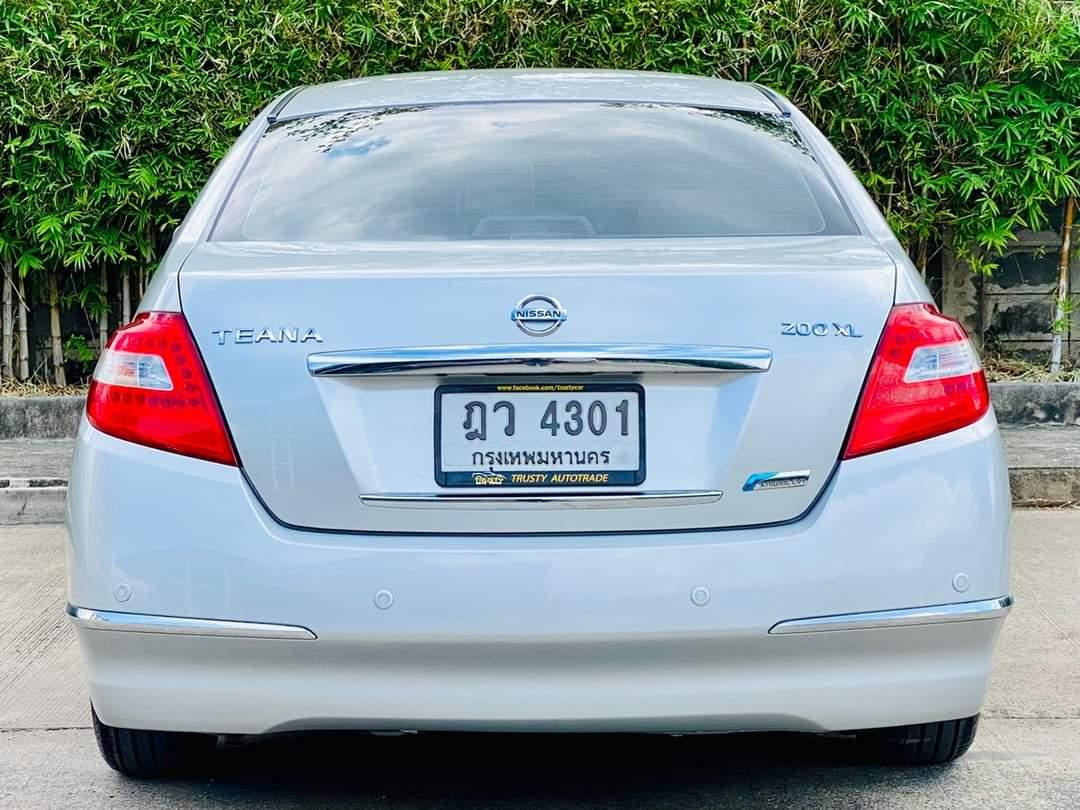license-plate: (434, 380, 649, 489)
